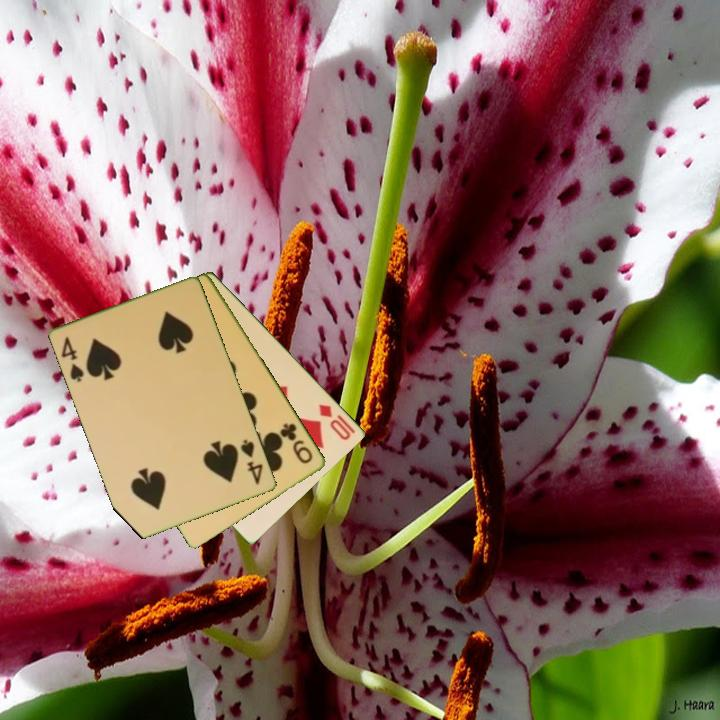10d: (315, 400, 354, 443)
4s: (237, 436, 266, 488), (58, 333, 87, 385)
9c: (277, 419, 316, 467)
